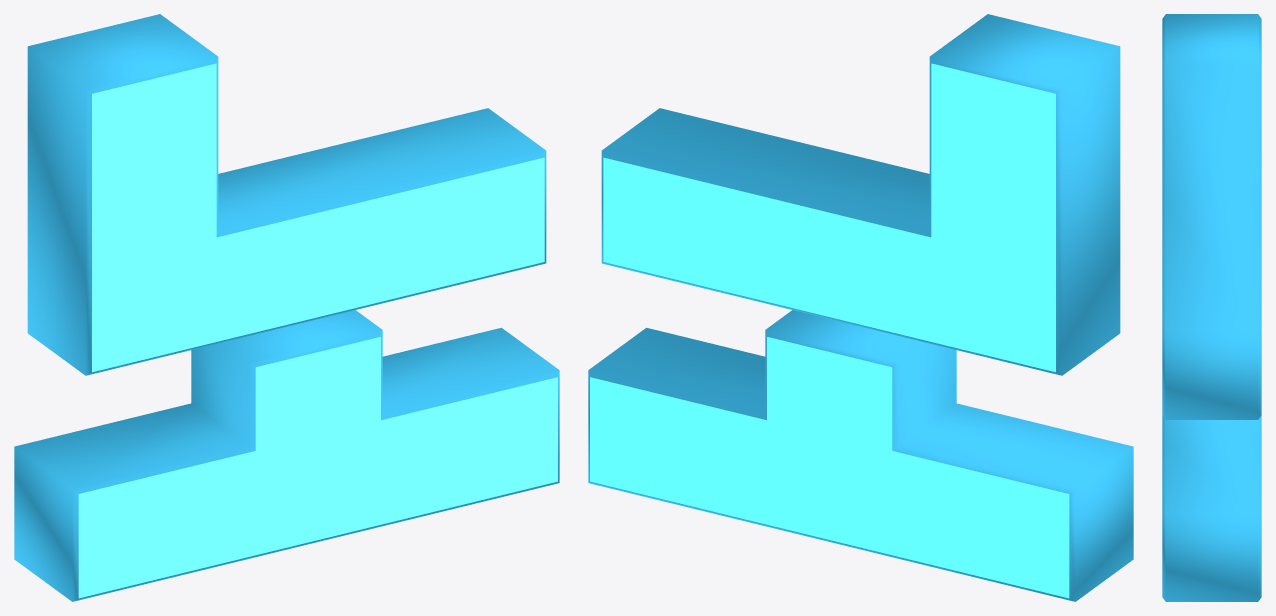
3 views of the same model, side by side, from view 1: azimuth 30°, elevation 25°; view 2: azimuth 150°, elevation 25°; view 3: azimuth 270°, elevation 25° (orthographic). The views are drawn at different scales.
Parts seen in each view (by area): view 1: glyph; view 2: glyph; view 3: glyph.
Boxes of the visible parts, x1,y1,x2,y2 form: glyph: (14, 14, 559, 601); glyph: (588, 14, 1133, 601); glyph: (1162, 14, 1261, 601).
Size of the model in its own units: 0.0726 by 0.0726 by 0.0162.
